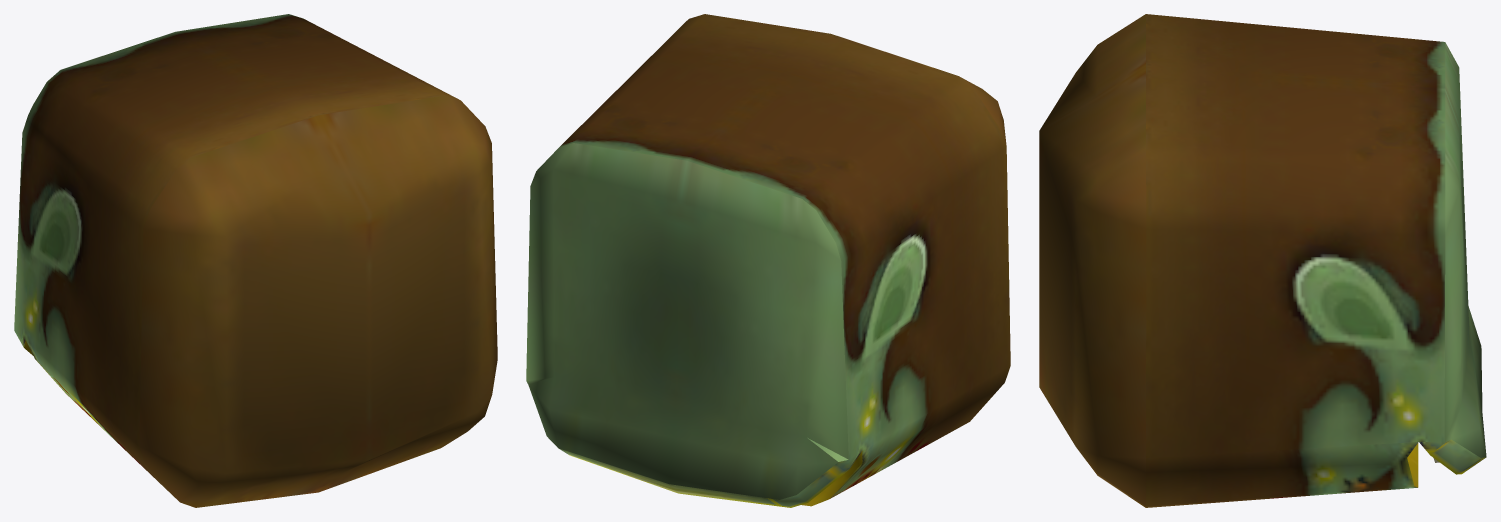
The model's file is Zombie_Nurse_H_Head_ea3b728f__Zombie_Nurse_Green_6fcc3c18_c1f257.obj.
3 renders of one model, left to right at view 1: azimuth 30°, elevation 25°; view 2: azimuth 150°, elevation 25°; view 3: azimuth 270°, elevation 25°, orthographic. The views are drawn at different scales.
Size of the model in its own units: 0.7351 by 0.7392 by 0.7614.
1 material, 1 textured.
